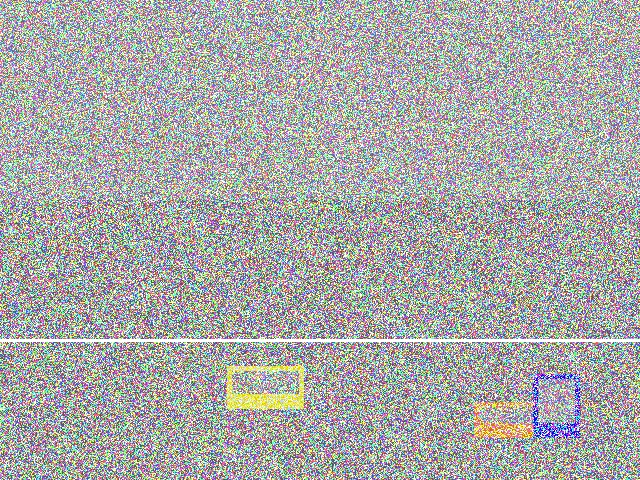car: (21, 123, 176, 235)
truck: (466, 361, 640, 424), (55, 363, 203, 433)
